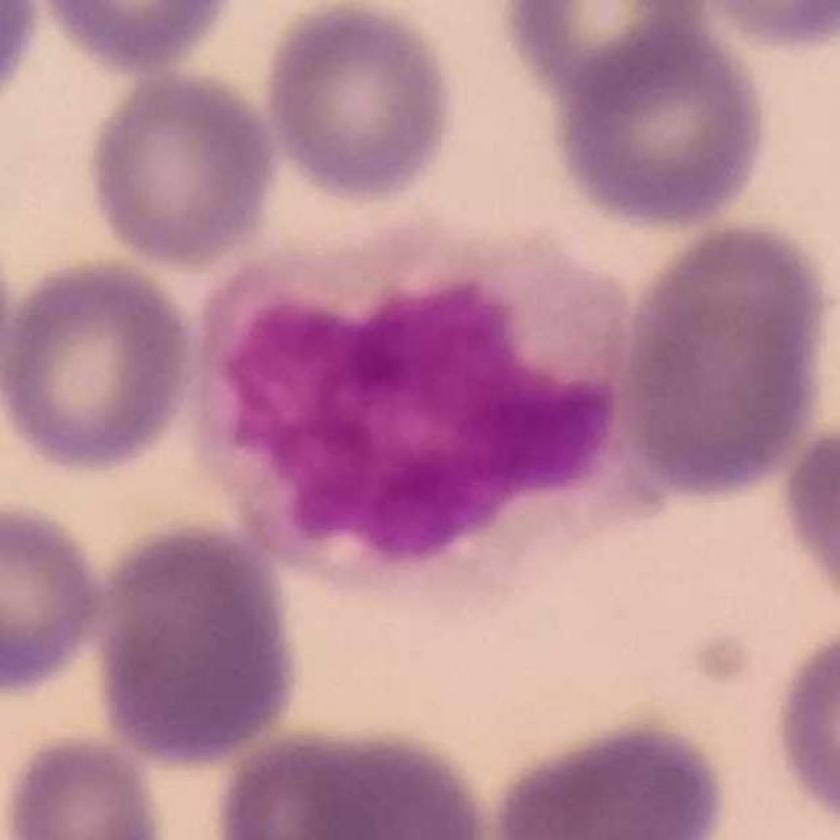monocyte: (196, 216, 679, 606)
